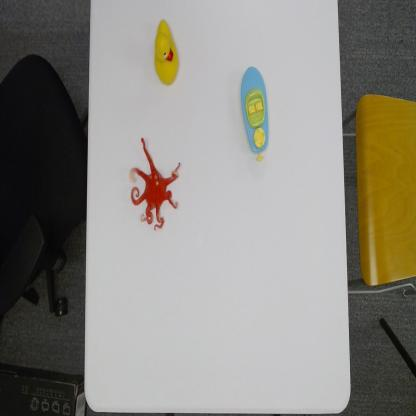Boat: (239, 65, 270, 163)
Duck: (153, 17, 180, 87)
Octopus: (128, 136, 182, 232)
